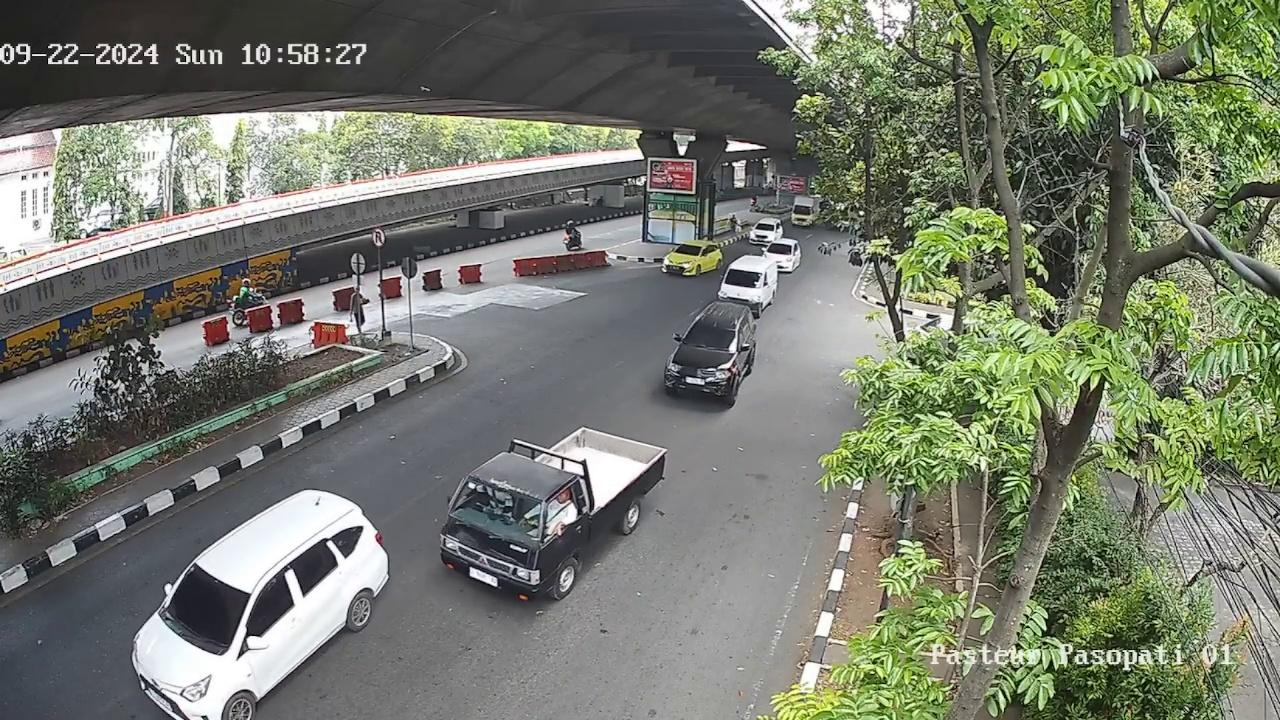pakai: (476, 485, 512, 517), (531, 499, 569, 528)
windshield: (450, 479, 573, 543), (163, 566, 259, 644), (686, 325, 740, 353), (723, 268, 764, 288)
